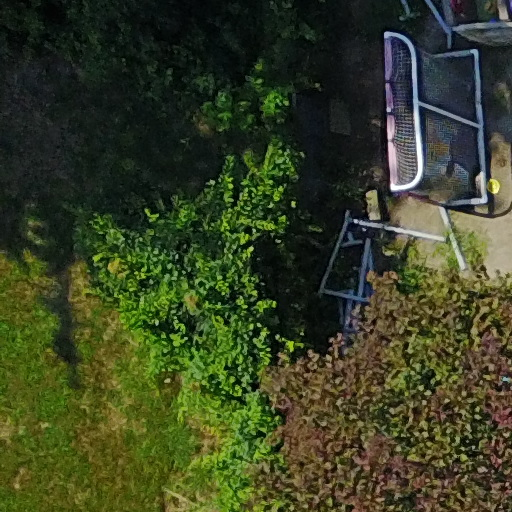container: (483, 175, 508, 199)
